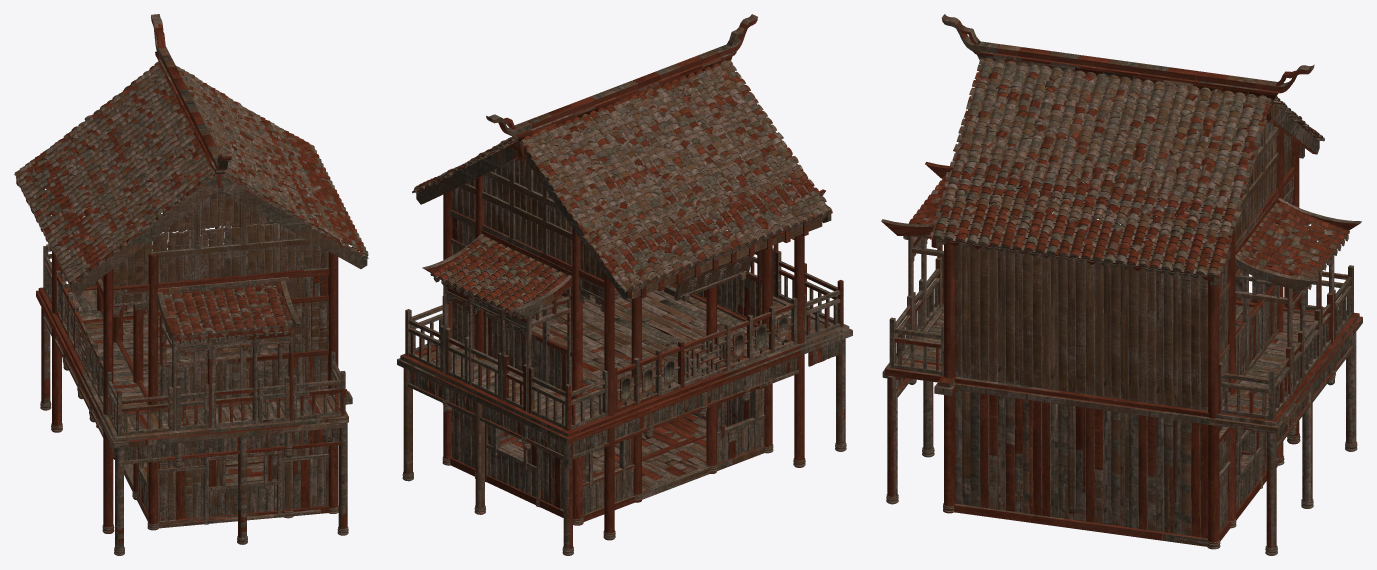
The model's file is wukong-chinese-high-house-original.glb.
The picture shows the model from 3 angles, left to right: view 1: azimuth 30°, elevation 25°; view 2: azimuth 150°, elevation 25°; view 3: azimuth 270°, elevation 25°; orthographic projection. The views are drawn at different scales.
Parts seen in each view (by area): view 1: __export_high_house; view 2: __export_high_house; view 3: __export_high_house.
Part boxes in pixels (x1,y1,x2,y2): __export_high_house: (14, 14, 368, 555); __export_high_house: (397, 14, 852, 555); __export_high_house: (881, 14, 1362, 555).
Bounding box in the file's own units: 17.58 × 20 × 20.09.
Materials: 1 (1 with a texture image).
